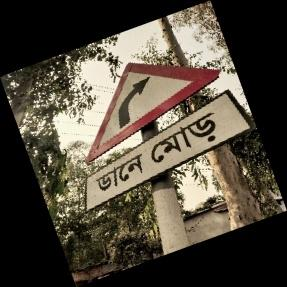Right-turn: (81, 62, 250, 209)
